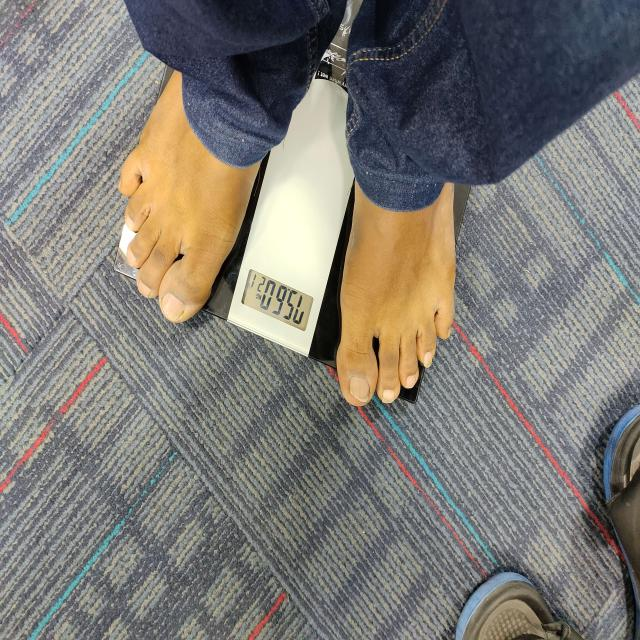ws: (208, 77, 356, 360)
